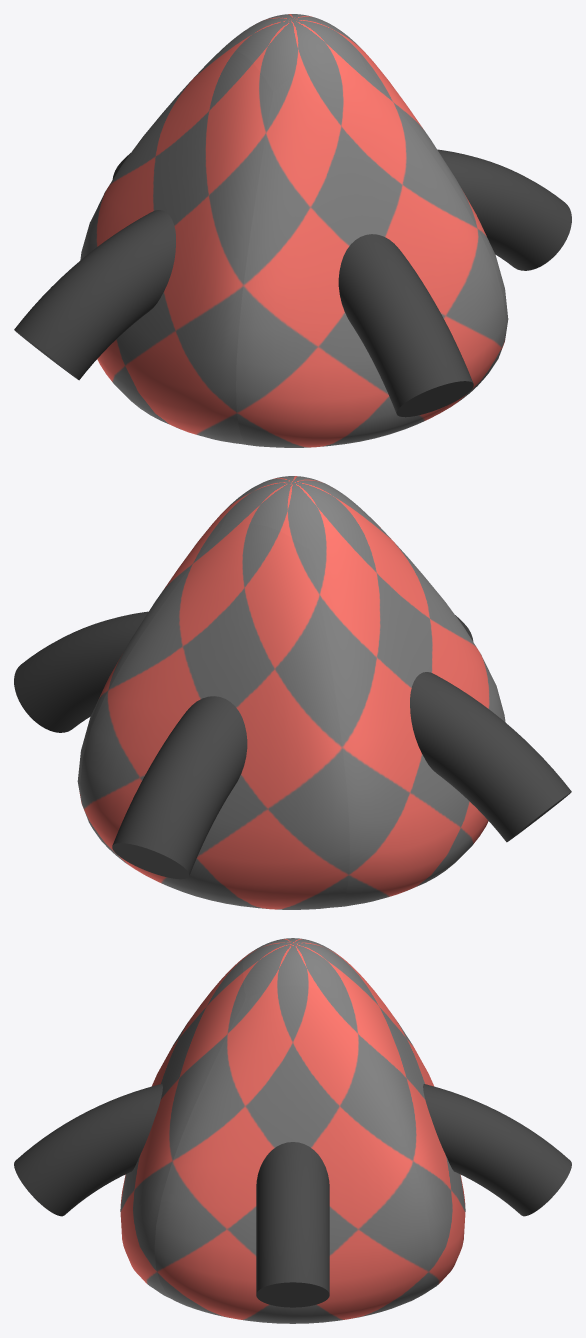
File: Body(Pyramidal)+Colour(More_Red)+Pattern(Diamond)+Arm_Angle(Bent_Down).fbx
3 views of the same model, one above another, from view 1: azimuth 30°, elevation 25°; view 2: azimuth 150°, elevation 25°; view 3: azimuth 270°, elevation 25° (orthographic). The views are drawn at different scales.
Visible parts, largest first — view 1: Body(Pyramidal)+Colour(More_Red)+Pattern(Diamond)+Arm_Angle( (×4); view 2: Body(Pyramidal)+Colour(More_Red)+Pattern(Diamond)+Arm_Angle( (×4); view 3: Body(Pyramidal)+Colour(More_Red)+Pattern(Diamond)+Arm_Angle( (×4).
Part boxes in pixels (x1,y1,x2,y2): Body(Pyramidal)+Colour(More_Red)+Pattern(Diamond)+Arm_Angle( (×4): (14,14,571,447); Body(Pyramidal)+Colour(More_Red)+Pattern(Diamond)+Arm_Angle( (×4): (14,476,571,909); Body(Pyramidal)+Colour(More_Red)+Pattern(Diamond)+Arm_Angle( (×4): (14,938,571,1323).
Bounding box in the file's own units: 60.67 × 40 × 60.67.
Materials: 2 (2 with a texture image).
